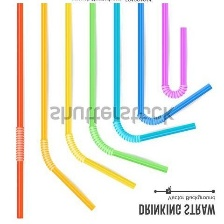drinking_straw: (61, 0, 139, 192), (36, 1, 98, 214), (10, 1, 28, 220), (158, 1, 191, 102)
